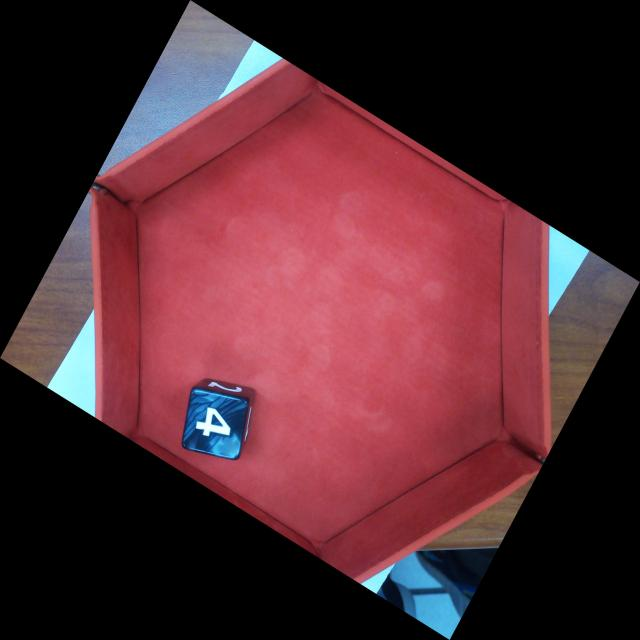dice: (183, 395, 248, 458)
